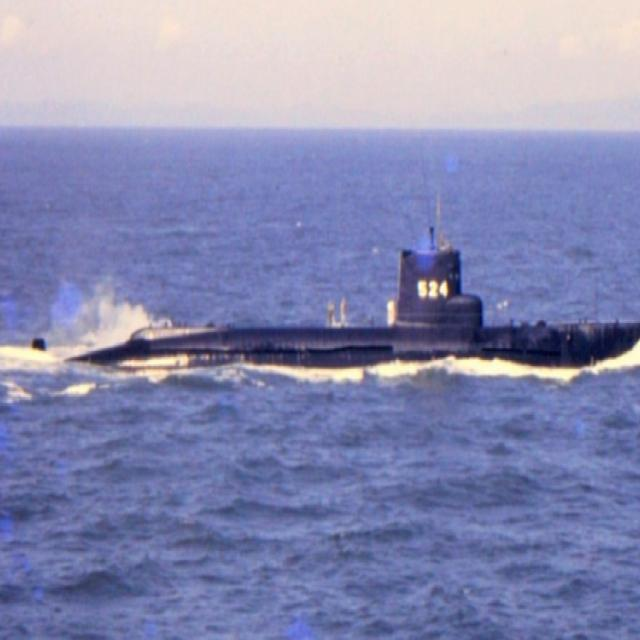submarine: (36, 240, 640, 372)
